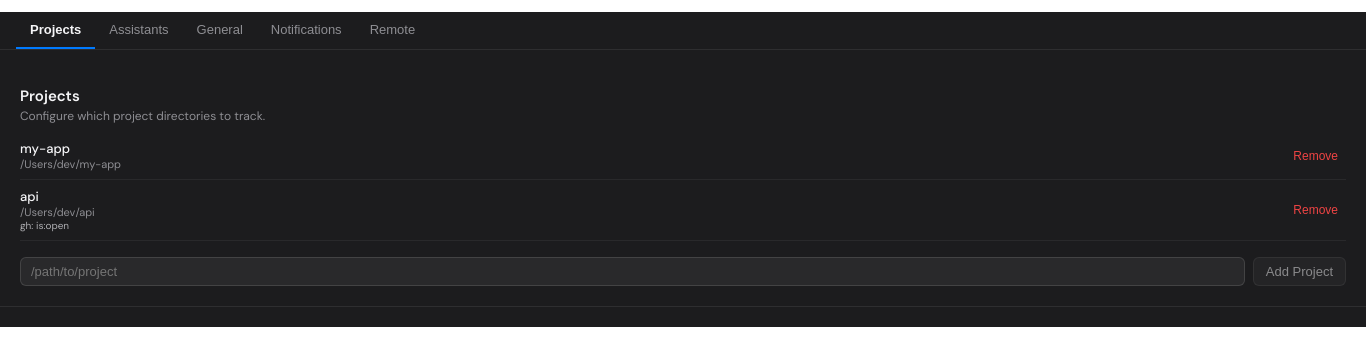
Test case: SettingsView › Tab navigation › switches to Notifications tab on click
Click the button with test id "settings-tab-notifications" at [306, 30], box [257,12,356,49]
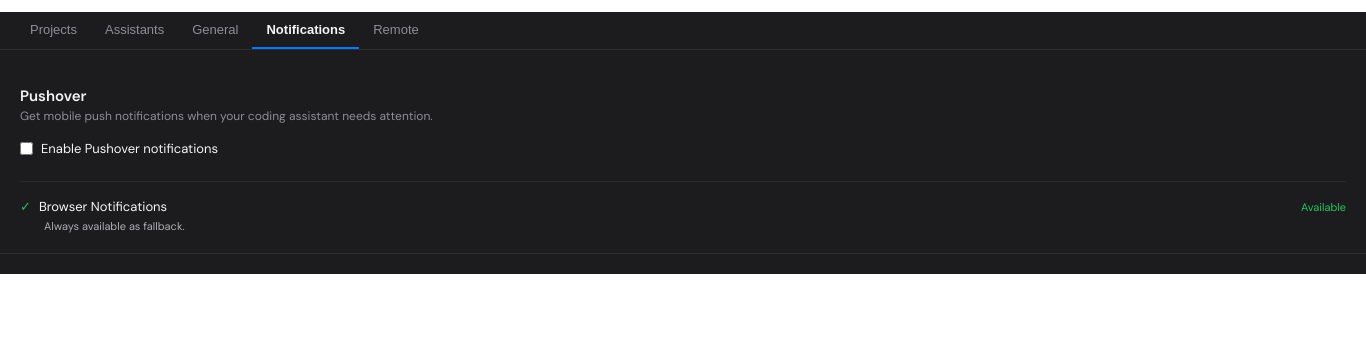
Check: the element with test id "settings-notifications" is shown, box [20,86,1346,233]
